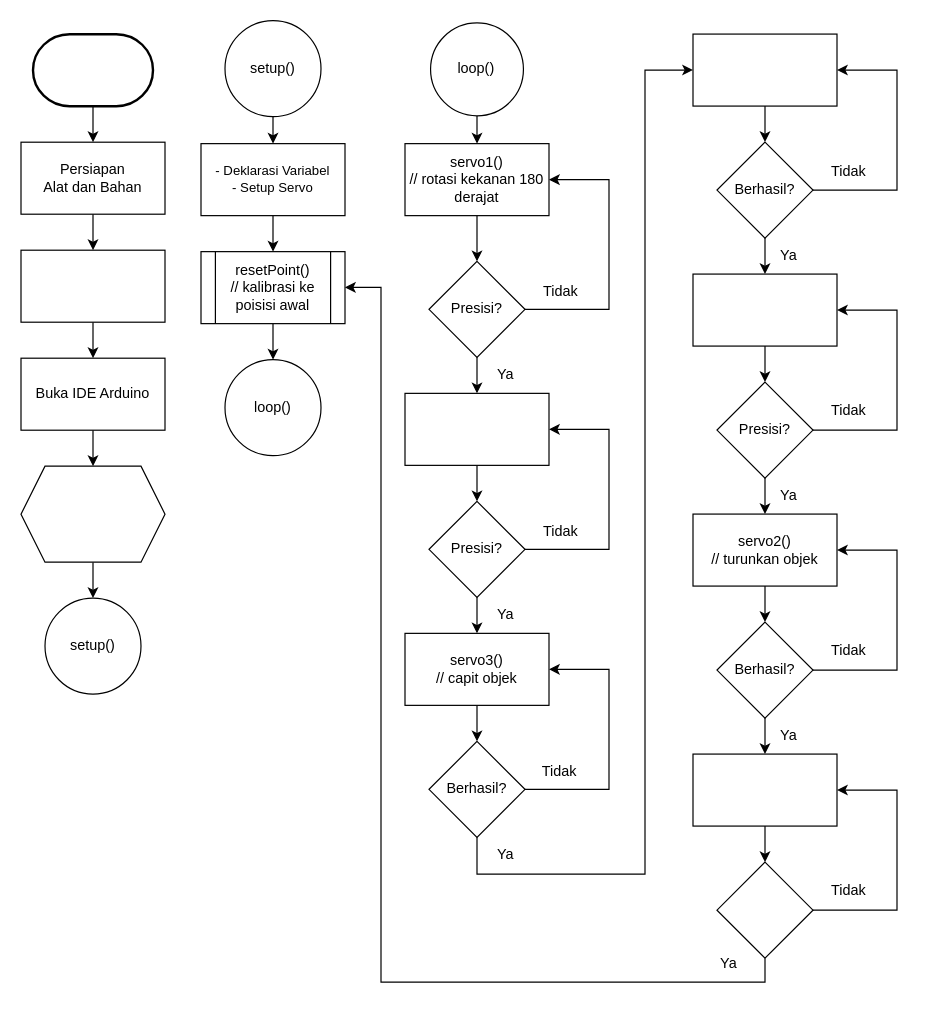
The diagram is 928 pixels wide and 1014 high, and some of its shapes have lost their labels. Each missing label, with the centre of its shape:
Berhasil ?: (764,909)
Hubungkan Arduino ke PC: (92,285)
Inisialisasi : - Port USB & Board - Library Servo: (92,513)
Mulai: (92,69)
servo 3() // lepaskan capitan dari objek: (764,789)
servo1() // rotasi kekiri 180 derajat: (764,309)
servo2() // angkat objek: (764,69)
servo2() // turunkan kebawah (ke objek): (476,428)
